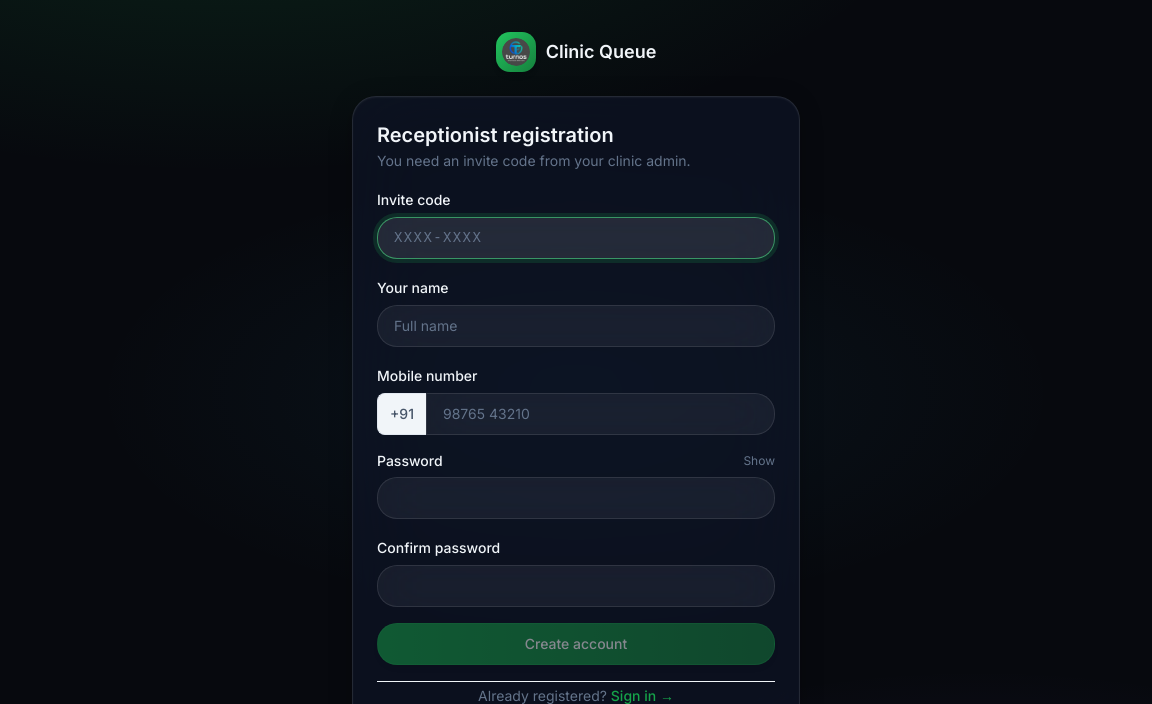
Test: <RegisterPage /> › surfaces server-side error
The image size is (1152, 704).
Type "ABCD-EFGH" into the field labelled "Invite code".
click(576, 238); type("ABCD-EFGH")  # box [377, 217, 775, 259]
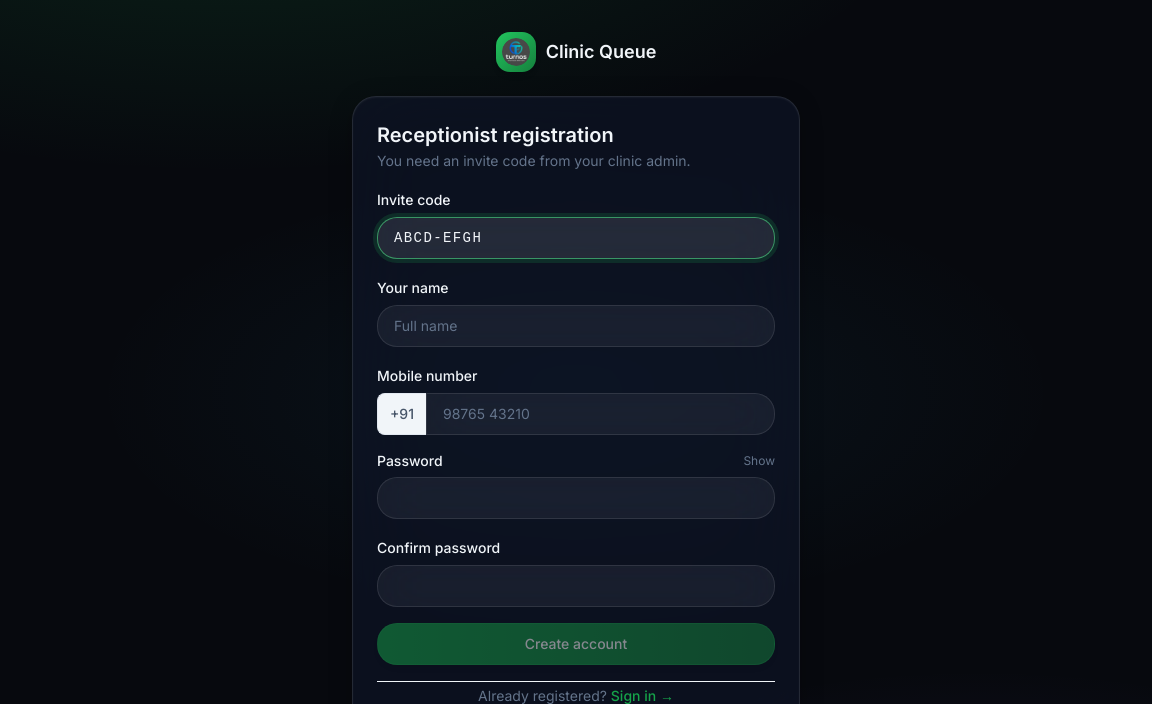
Type "Alice" into the field labelled "Your name".
click(576, 326); type("Alice")  # box [377, 305, 775, 347]
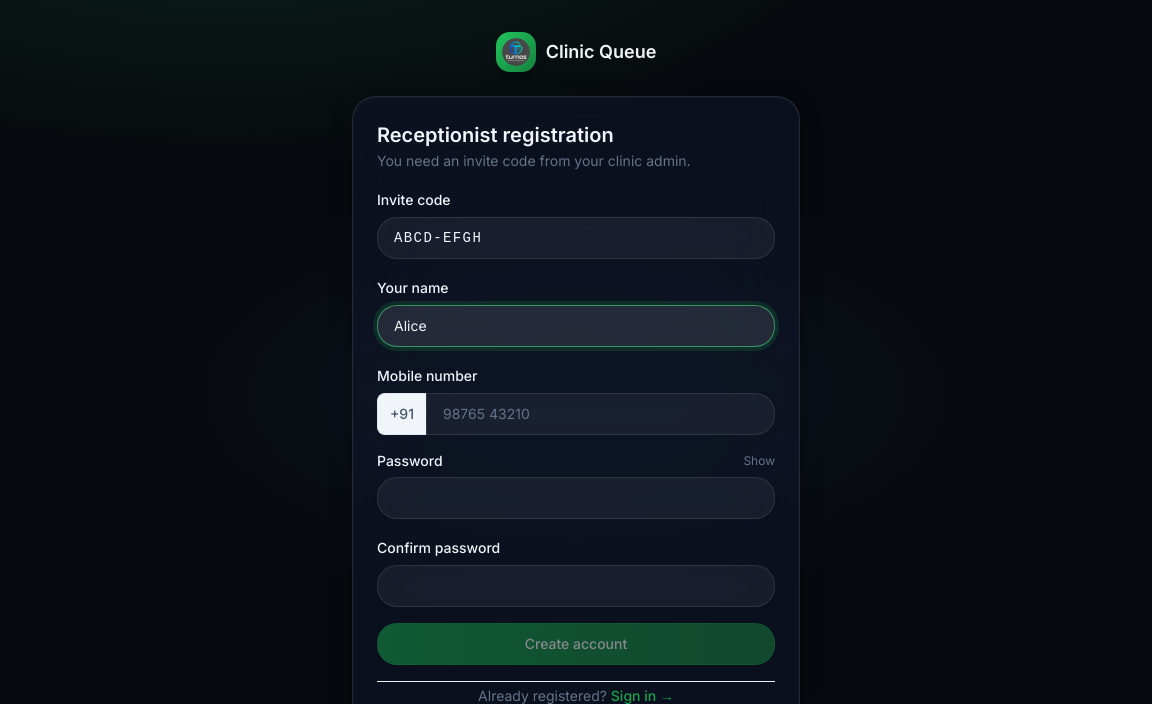
Type "9876543210" into the field labelled "Mobile number".
click(600, 414); type("9876543210")  # box [426, 393, 775, 435]
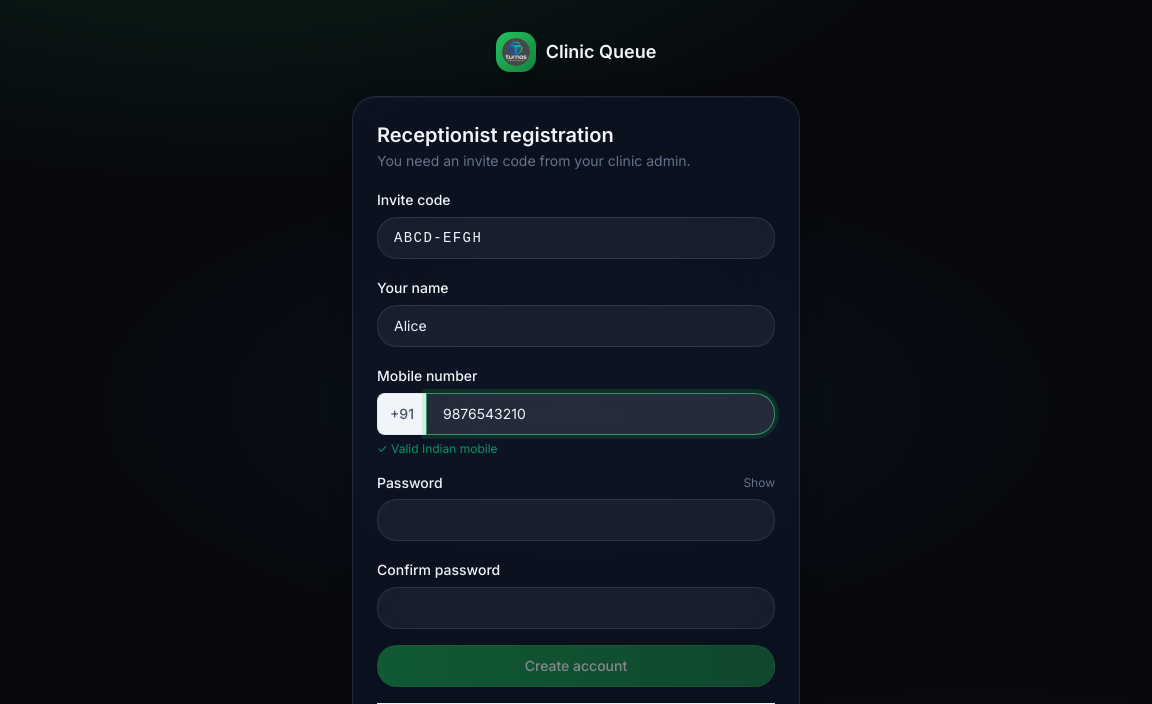
Type "goodpass1" into the password field labelled "Password".
click(576, 520); type("goodpass1")  # box [377, 499, 775, 541]
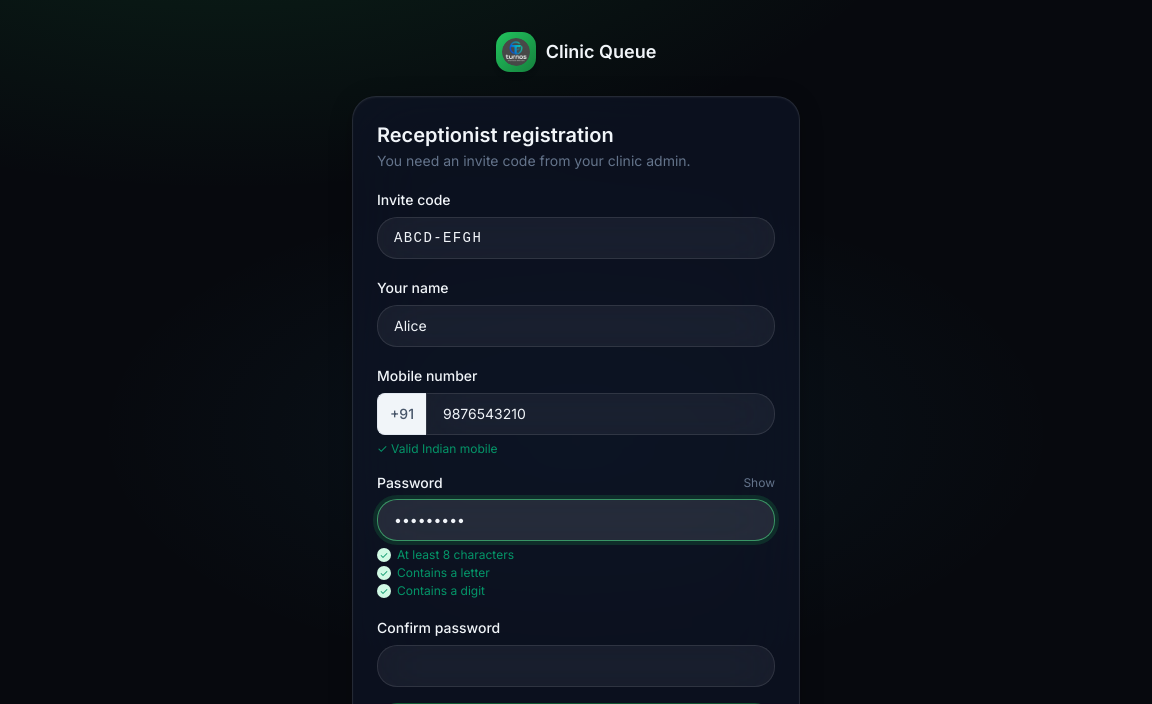
Type "goodpass1" into the password field labelled "Confirm password".
click(576, 666); type("goodpass1")  # box [377, 645, 775, 687]
(page scrolled)
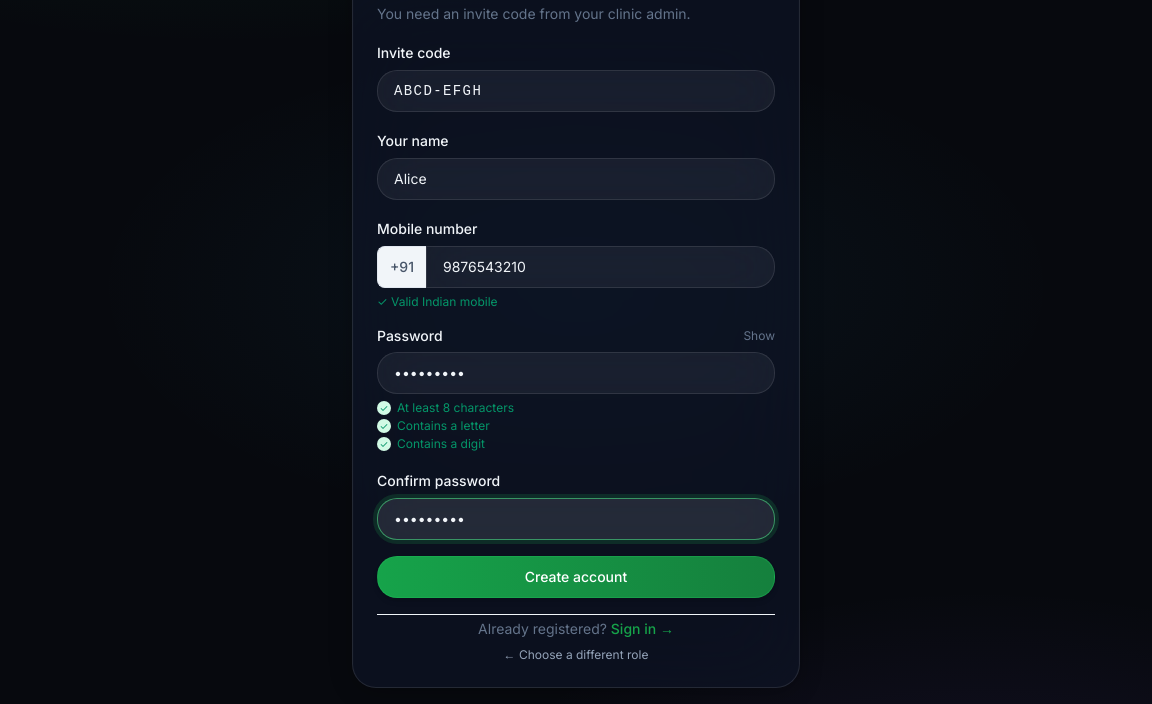
Click the button "Create account".
click(576, 577)  # box [377, 556, 775, 598]
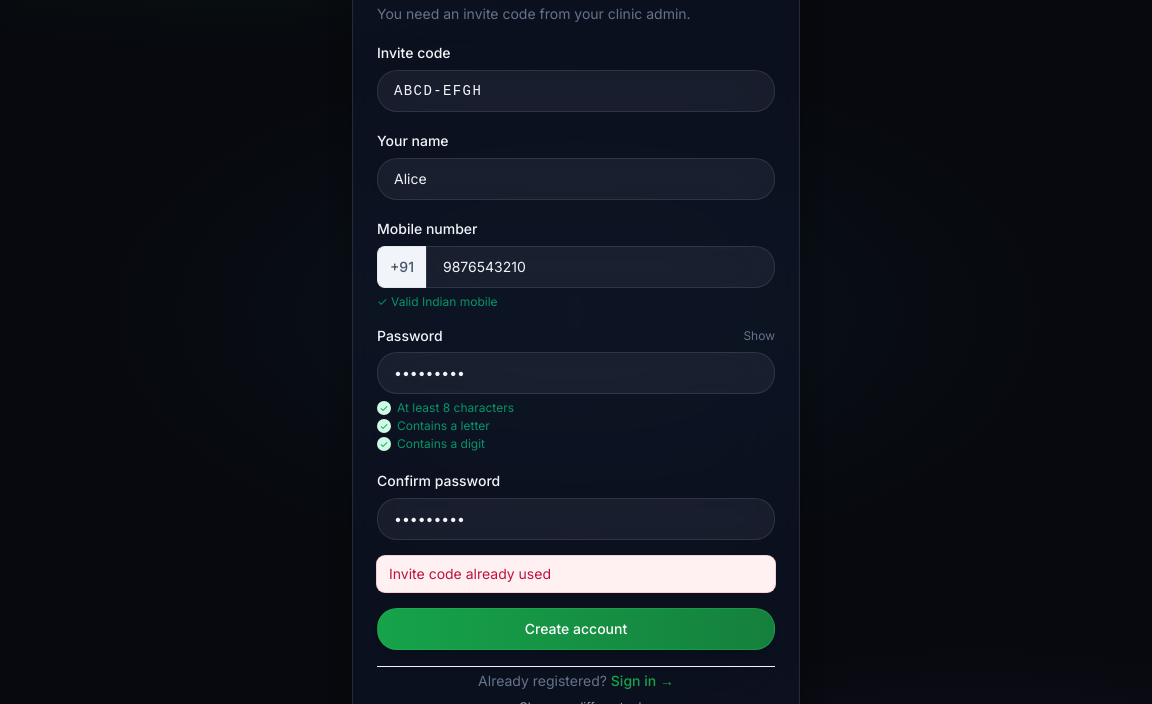
Expected: the text "Invite code already used" is shown, [377, 556, 775, 592]
